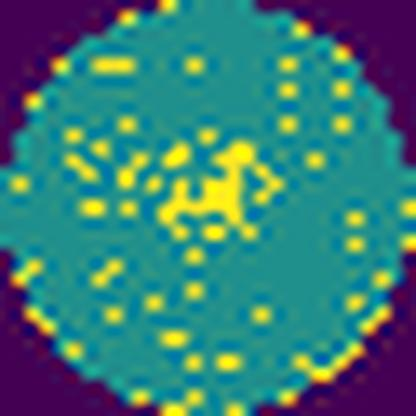Center: (148, 133, 283, 247)
